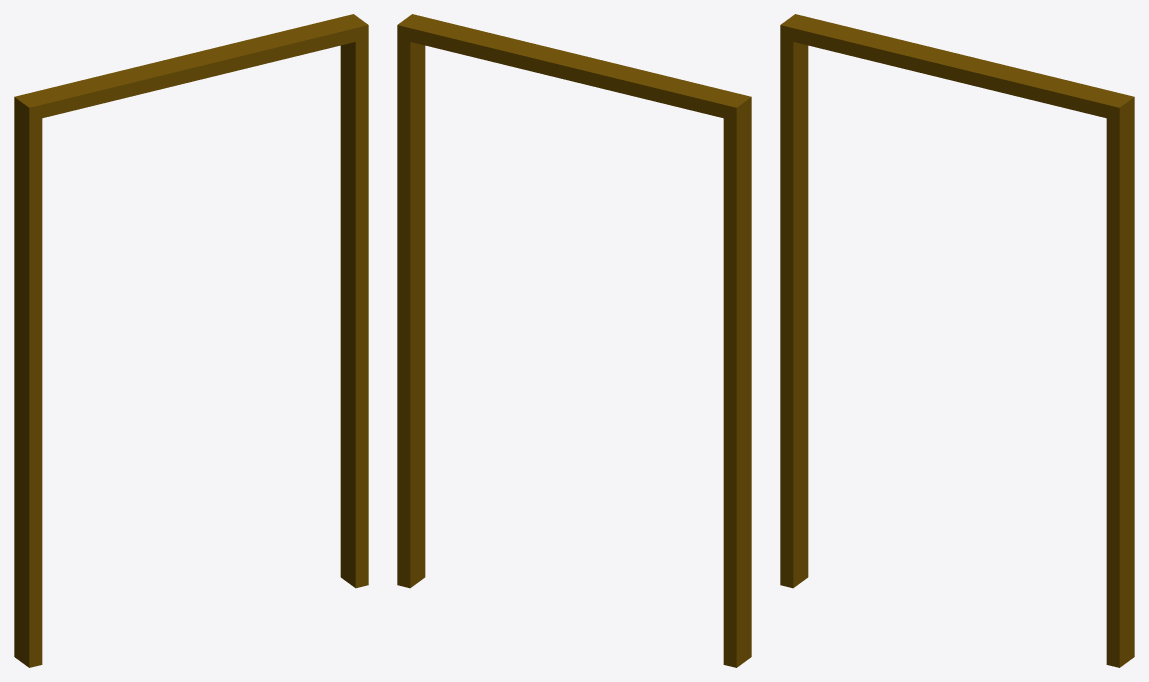
Rendered from Door00-Frame.gltf.
3 renders of one model, left to right at view 1: azimuth 30°, elevation 25°; view 2: azimuth 150°, elevation 25°; view 3: azimuth 330°, elevation 25°, orthographic.
Size of the model in its own units: 26 by 41 by 2.
